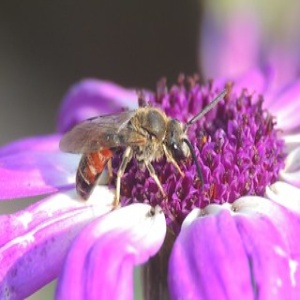bee: (60, 104, 206, 215)
